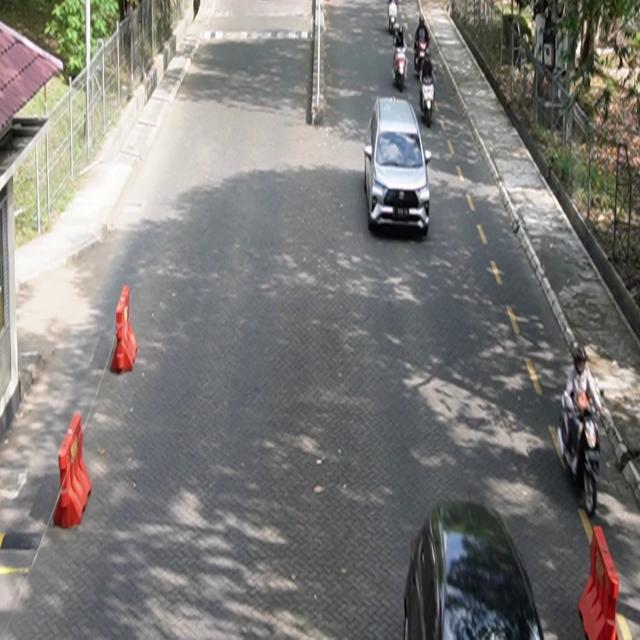car: (404, 499, 546, 640), (364, 96, 433, 238)
